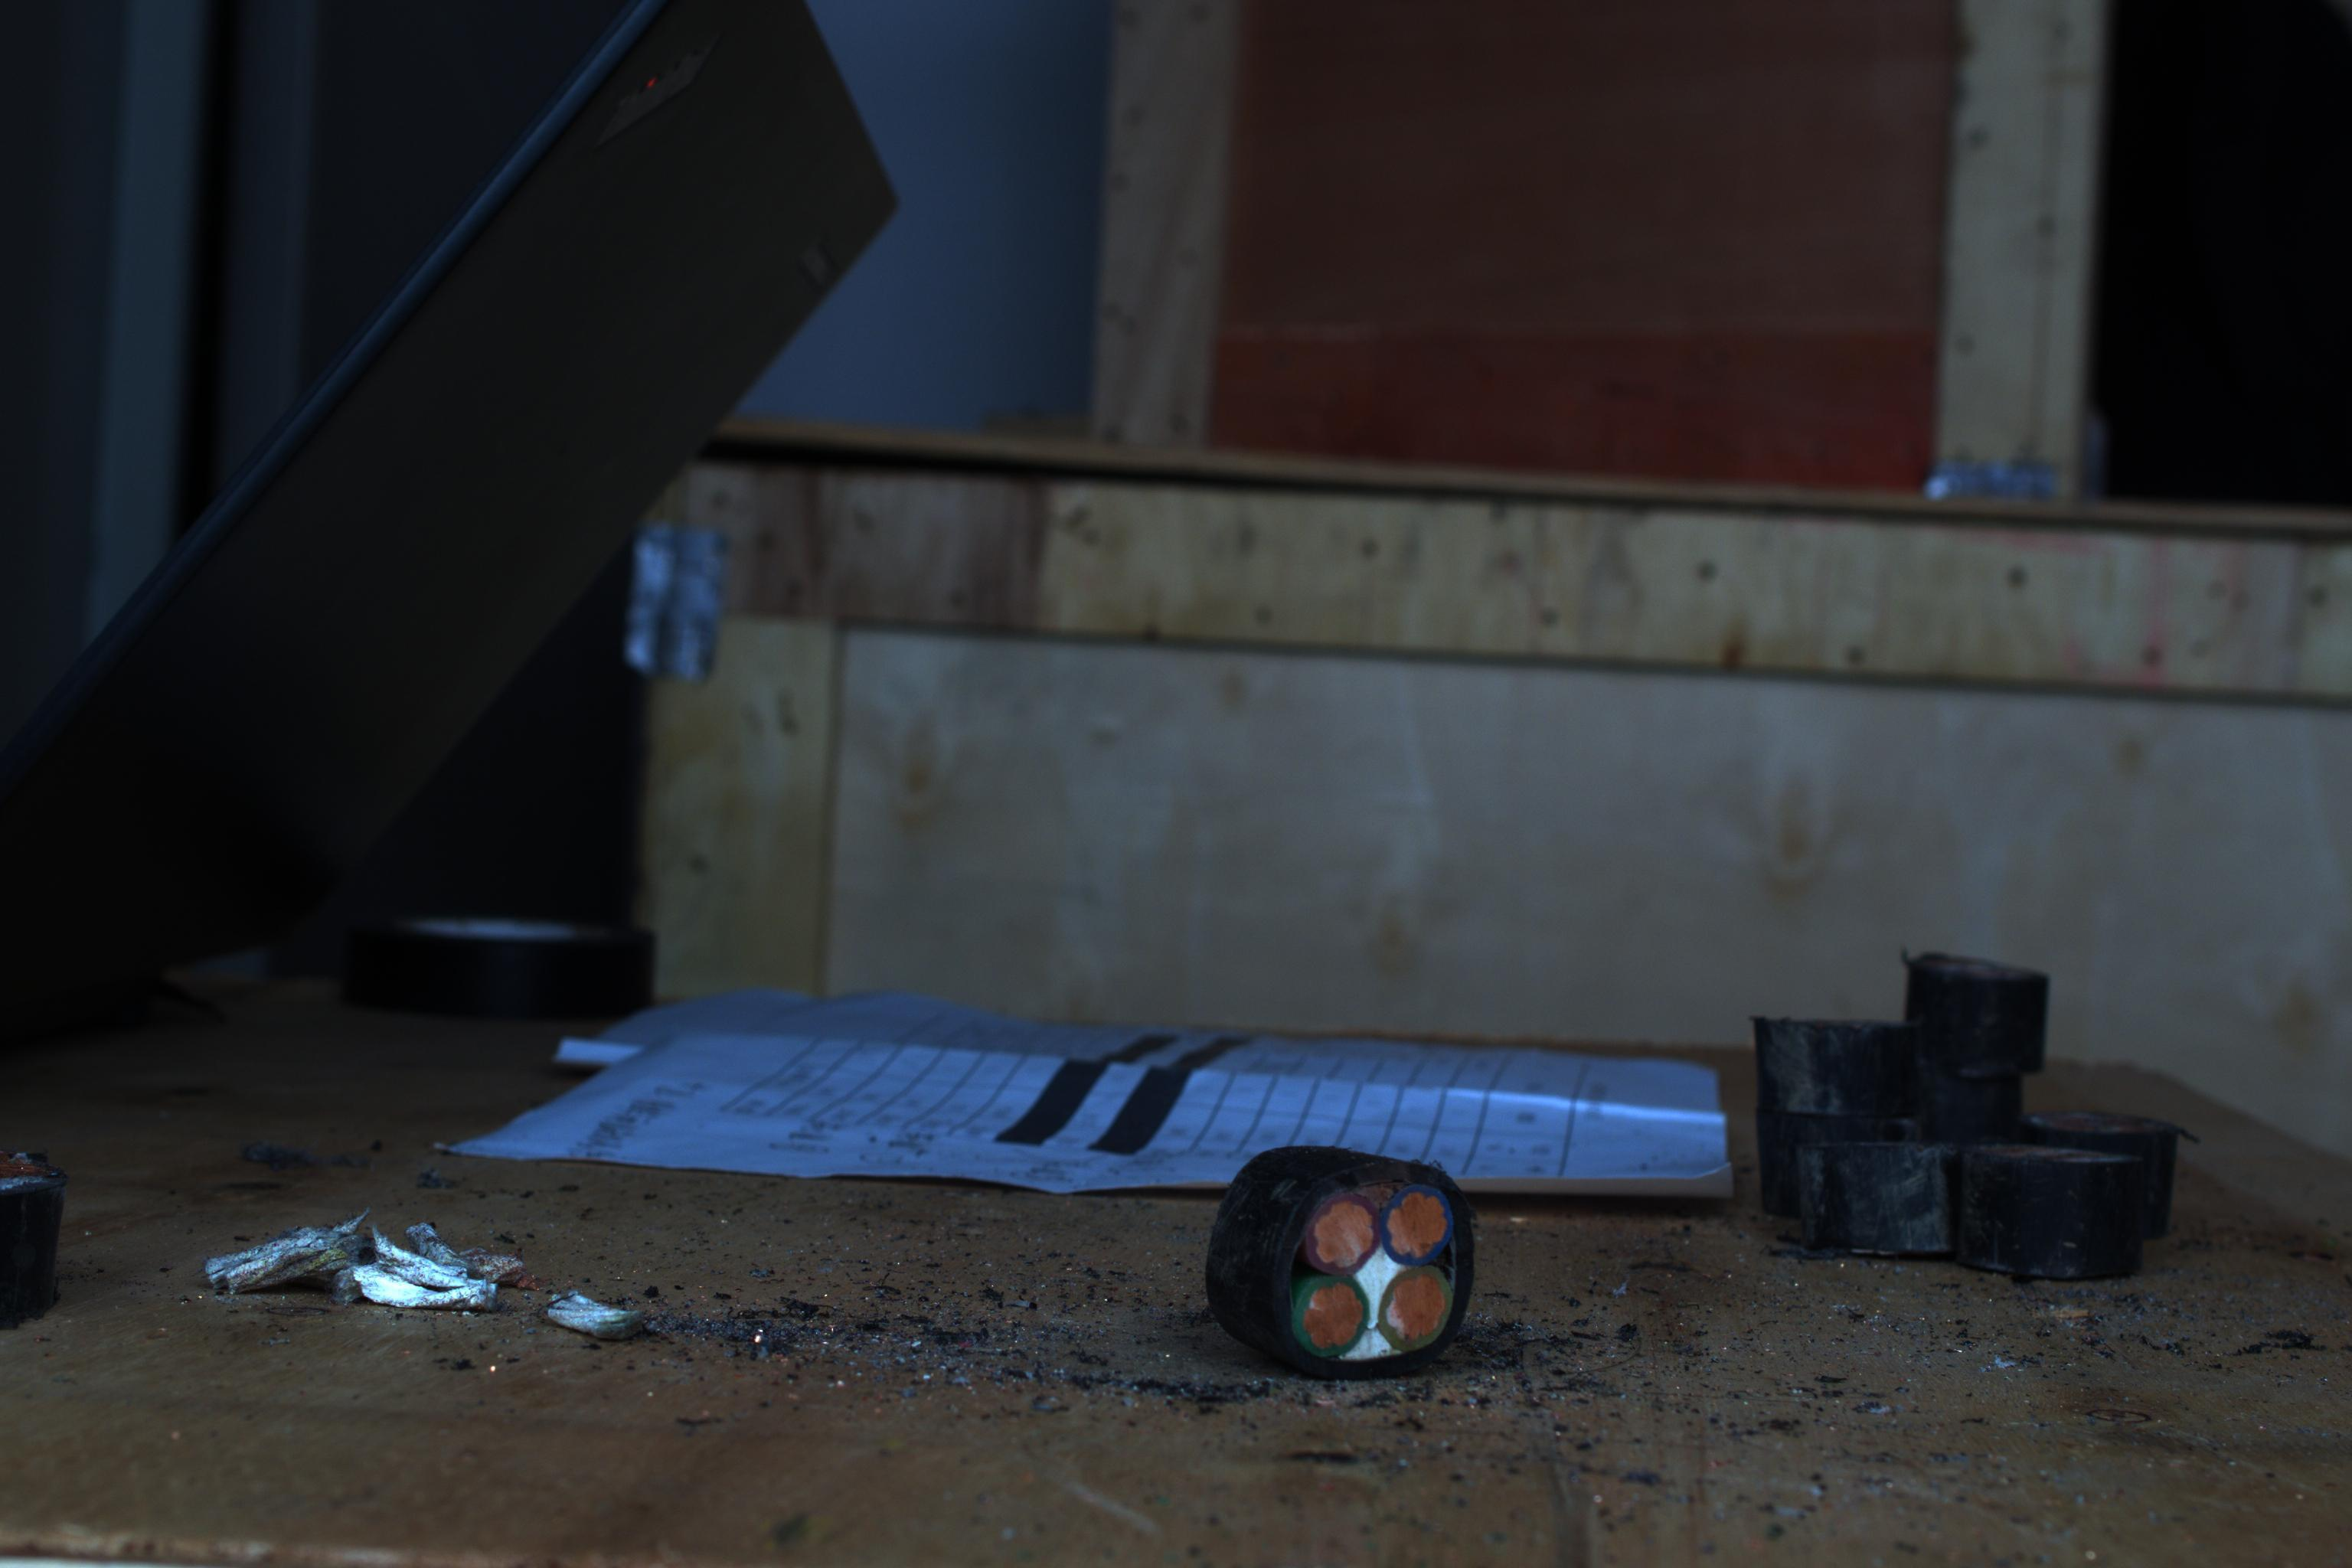YJV_0.6_1kV_4x35: (1256, 1150, 1498, 1379)
